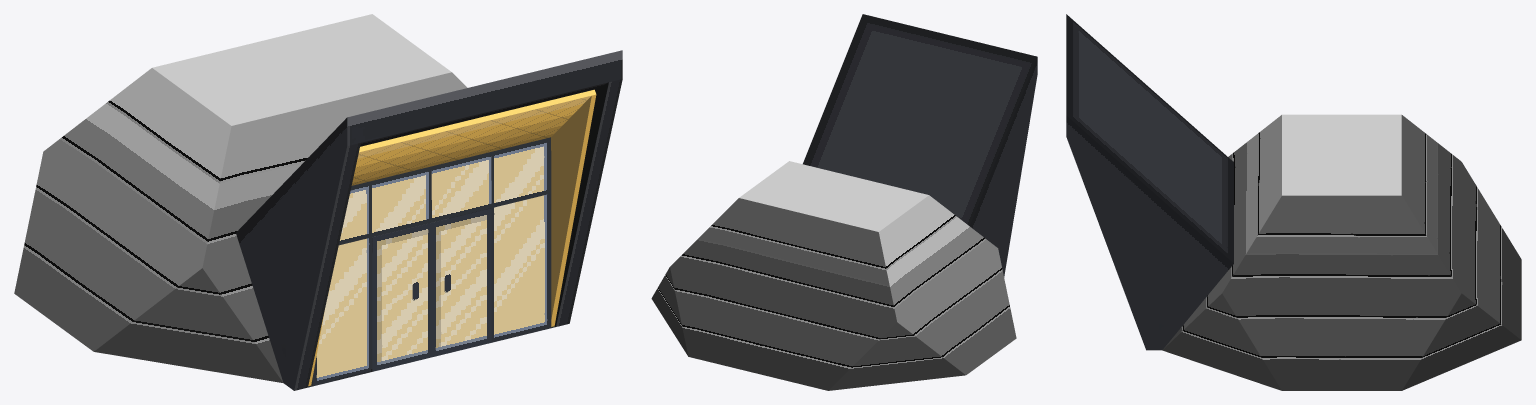
File: auditorium.glb
3 views of the same model, side by side, from view 1: azimuth 30°, elevation 25°; view 2: azimuth 150°, elevation 25°; view 3: azimuth 270°, elevation 25° (orthographic). The views are drawn at different scales.
Visible parts, largest first — view 1: Cube, Cube.001, Plane; view 2: Cube, Cube.001; view 3: Cube, Cube.001.
Boxes of the visible parts, x1,y1,x2,y2 form: Cube: (14, 14, 467, 383); Cube.001: (236, 50, 622, 390); Plane: (372, 208, 491, 371); Cube: (651, 161, 1016, 390); Cube.001: (803, 14, 1037, 277); Cube: (1162, 114, 1521, 390); Cube.001: (1066, 14, 1233, 350).
Bounding box in the file's own units: 5.4 × 3.25 × 5.7.
Materials: 4 (4 with a texture image).
